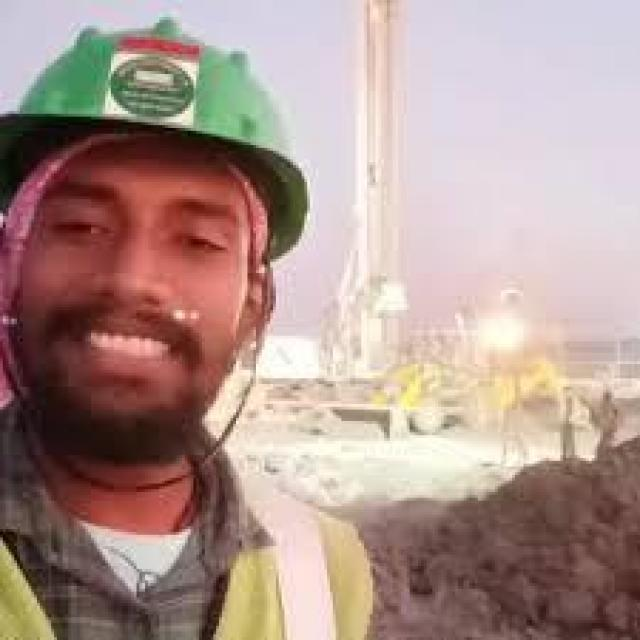hat: (3, 14, 310, 256)
